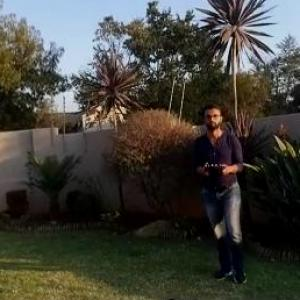follow: (188, 96, 256, 292)
